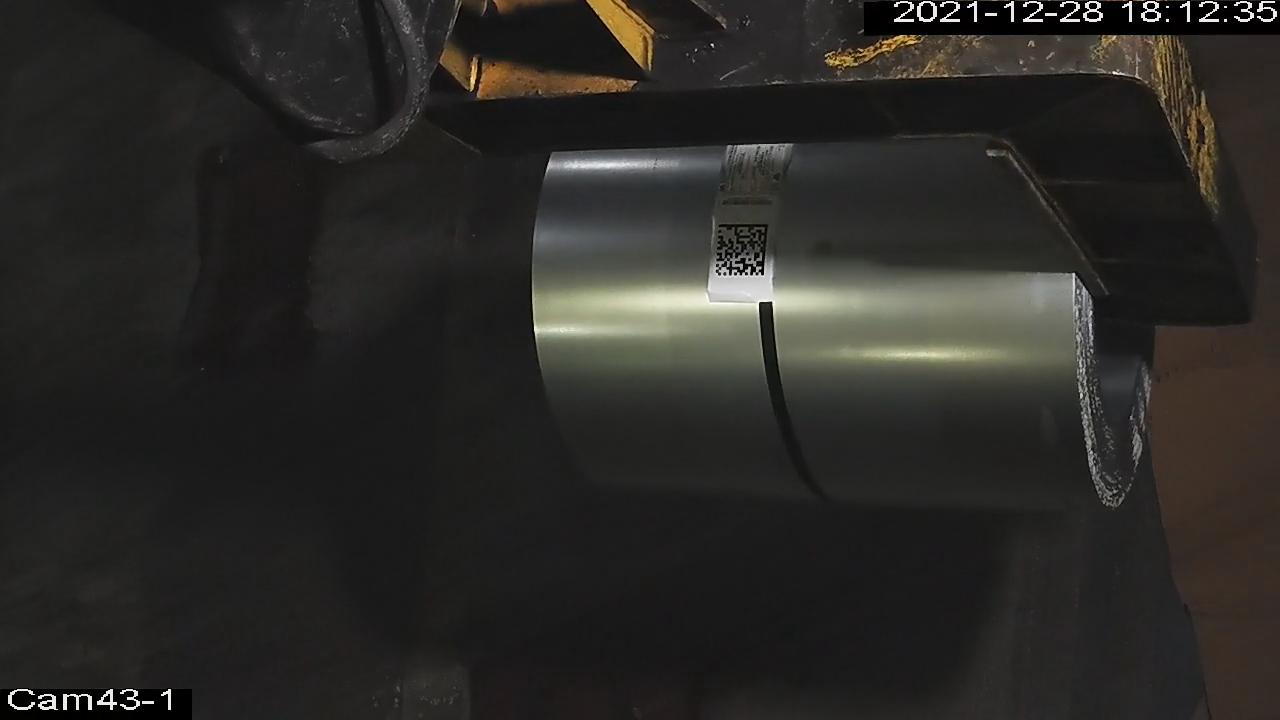data matrix: (714, 222, 770, 279)
